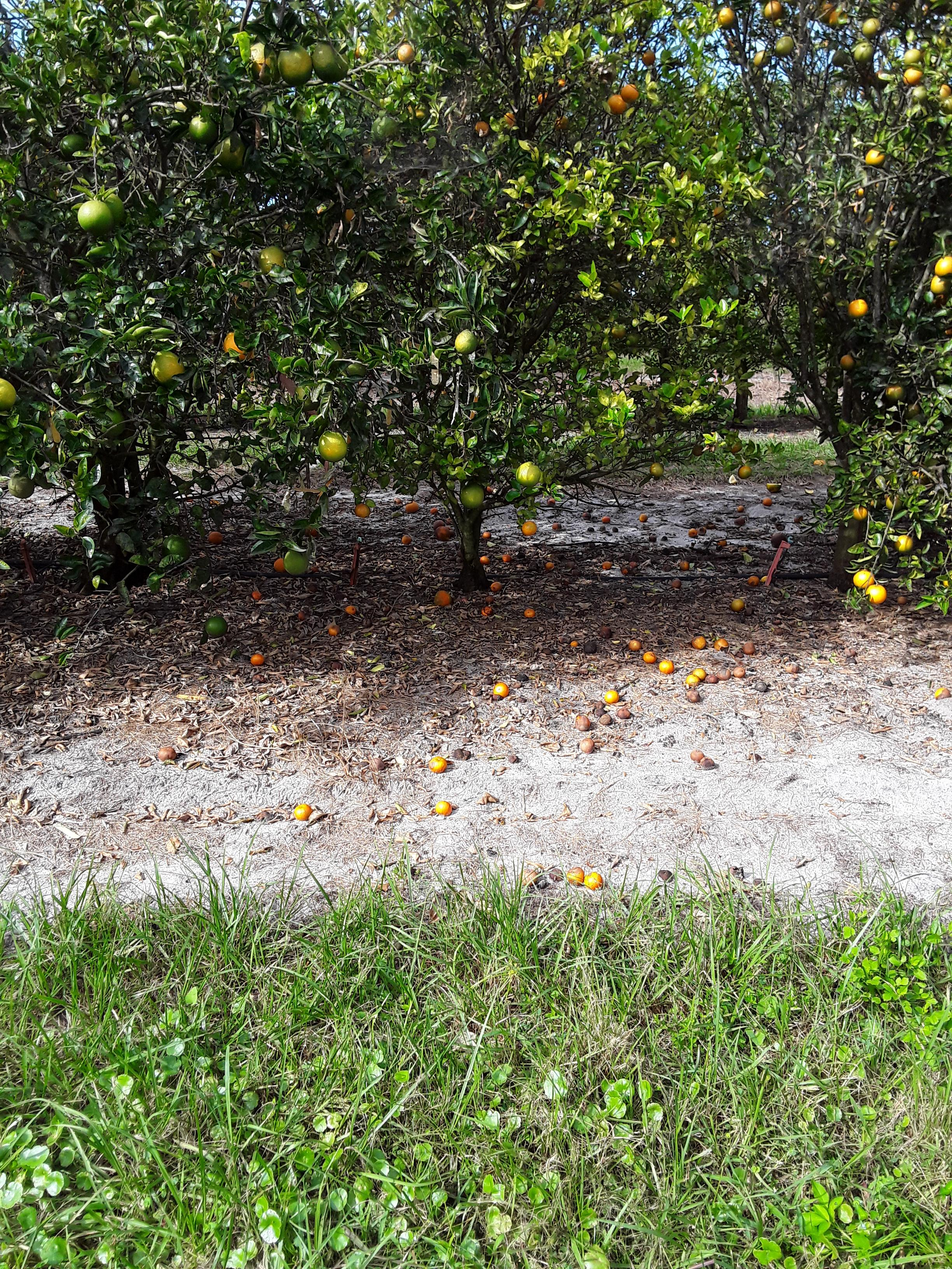fruit_on_ground: (308, 37, 350, 84), (275, 41, 316, 86), (244, 38, 281, 83), (75, 197, 115, 238), (214, 132, 249, 171), (96, 188, 129, 225), (151, 349, 186, 383), (316, 429, 351, 463), (185, 112, 221, 145), (221, 329, 255, 361), (255, 243, 288, 275), (159, 532, 192, 562), (58, 130, 91, 159), (96, 408, 127, 438), (513, 460, 545, 489), (371, 113, 402, 142), (6, 469, 35, 499), (451, 327, 480, 357), (458, 481, 486, 509), (0, 375, 19, 413), (850, 40, 877, 65), (812, 0, 840, 24), (168, 96, 197, 119), (203, 612, 229, 637), (845, 295, 871, 320), (283, 551, 310, 575), (405, 101, 431, 125), (761, 1, 788, 24), (863, 144, 888, 168), (826, 6, 850, 30), (851, 567, 875, 591), (859, 14, 883, 38), (772, 33, 795, 58), (715, 5, 738, 30), (394, 41, 417, 65), (749, 47, 772, 70), (882, 382, 906, 404), (928, 275, 950, 298), (902, 45, 925, 67), (901, 65, 925, 86), (893, 532, 915, 554), (866, 583, 888, 604), (606, 92, 627, 114), (829, 47, 850, 68), (882, 490, 903, 511), (604, 277, 625, 298), (472, 117, 493, 138), (908, 85, 929, 105), (933, 254, 951, 277), (868, 67, 888, 87), (903, 400, 923, 420), (838, 351, 858, 371), (552, 113, 573, 132), (340, 204, 359, 225), (709, 202, 729, 221), (639, 47, 658, 67), (352, 500, 371, 519), (621, 83, 640, 102), (500, 109, 518, 129), (937, 81, 952, 104), (851, 503, 870, 521), (609, 321, 627, 339), (648, 460, 666, 478), (238, 472, 257, 489), (525, 0, 551, 12), (665, 232, 682, 250), (885, 0, 904, 16), (906, 466, 924, 482), (547, 866, 565, 882), (738, 463, 754, 479), (533, 89, 548, 106), (690, 442, 706, 457), (729, 438, 743, 452), (483, 482, 497, 495), (555, 75, 568, 88)
fruit_on_tree: (292, 801, 314, 823), (565, 864, 586, 886), (517, 868, 540, 888), (583, 870, 604, 891), (427, 754, 448, 775), (156, 744, 178, 763), (576, 736, 596, 755), (491, 680, 510, 699), (582, 636, 602, 654), (572, 714, 592, 732), (432, 589, 452, 607), (352, 501, 371, 519), (206, 528, 225, 546), (434, 798, 453, 816), (434, 524, 453, 541), (933, 684, 951, 701), (603, 687, 620, 705), (271, 554, 287, 573), (521, 518, 538, 535), (656, 866, 674, 882), (657, 659, 675, 675), (729, 596, 746, 612), (685, 670, 702, 685), (249, 651, 266, 666), (893, 592, 909, 607), (304, 524, 320, 539), (691, 666, 707, 681), (700, 755, 716, 770), (626, 637, 642, 652), (640, 650, 656, 665), (691, 634, 707, 649), (597, 712, 612, 727), (732, 664, 747, 679), (741, 640, 756, 655), (689, 749, 704, 764), (685, 690, 701, 704), (713, 636, 729, 650), (249, 587, 264, 601), (293, 608, 307, 622), (598, 624, 612, 638), (326, 622, 340, 636), (771, 533, 786, 546), (617, 707, 632, 720), (405, 500, 420, 513), (343, 603, 358, 616), (784, 662, 800, 674), (329, 658, 343, 671), (427, 502, 441, 515), (746, 573, 760, 586), (811, 456, 826, 468), (400, 532, 413, 545), (624, 561, 638, 573), (716, 668, 730, 680), (766, 481, 780, 493), (480, 528, 493, 540), (678, 558, 691, 570), (480, 605, 493, 617), (478, 553, 491, 565), (489, 579, 502, 591), (702, 519, 716, 530), (523, 606, 537, 617), (705, 673, 719, 684), (390, 497, 402, 509), (569, 636, 581, 648), (670, 577, 682, 589), (501, 550, 513, 562), (791, 513, 804, 524), (733, 517, 746, 528), (544, 495, 557, 506), (543, 559, 556, 570), (761, 495, 774, 506), (686, 526, 699, 537), (754, 681, 767, 692), (697, 524, 709, 535), (734, 503, 746, 514), (600, 512, 612, 523), (637, 512, 649, 523), (601, 558, 613, 569), (715, 537, 728, 547), (647, 532, 658, 543), (581, 509, 592, 519), (551, 520, 562, 530), (619, 566, 630, 576)
